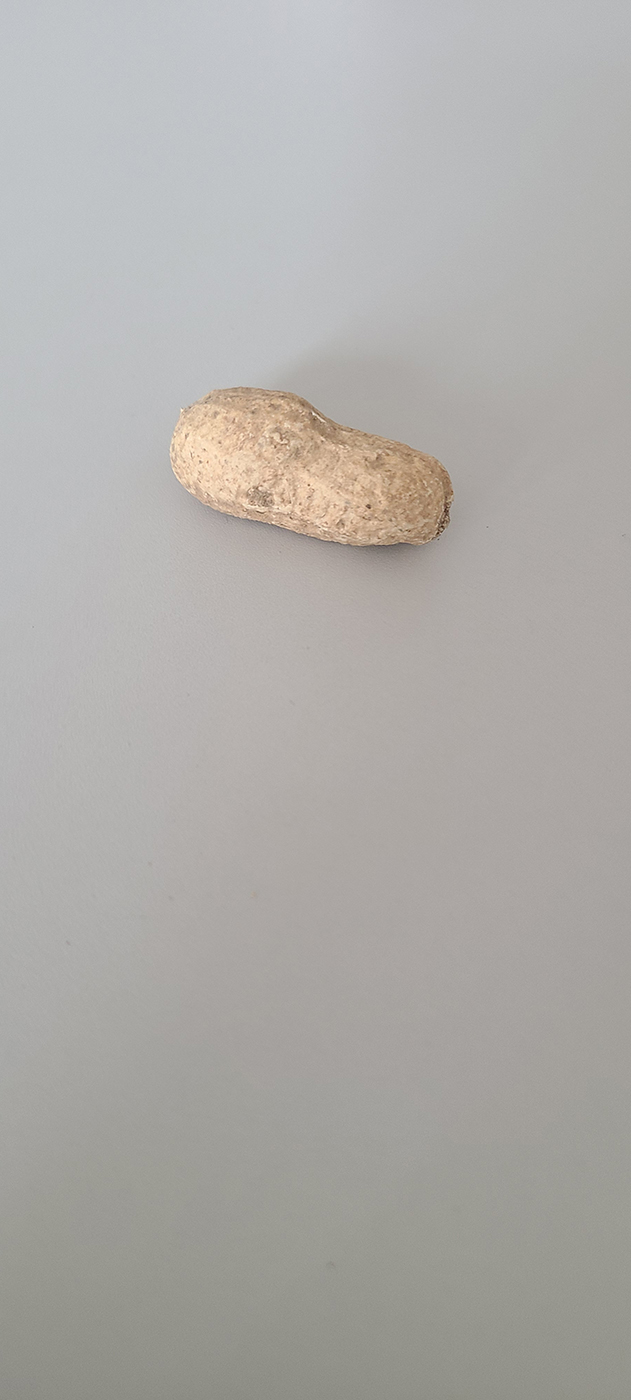h: (164, 386, 453, 554)
